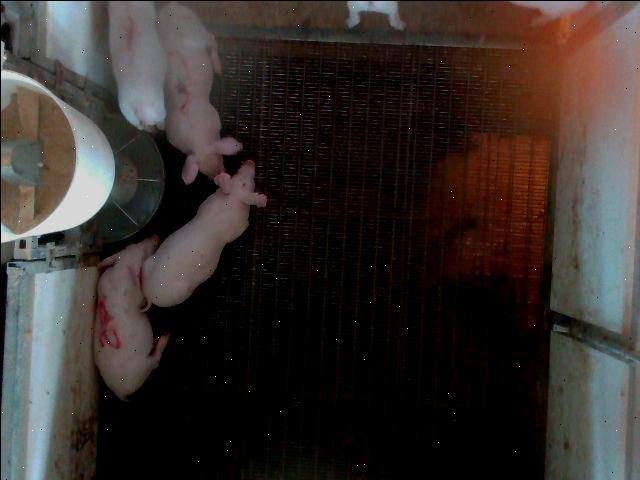pig-1: (108, 2, 166, 130)
pig-3: (156, 1, 241, 182)
pig-5: (92, 234, 169, 401)
